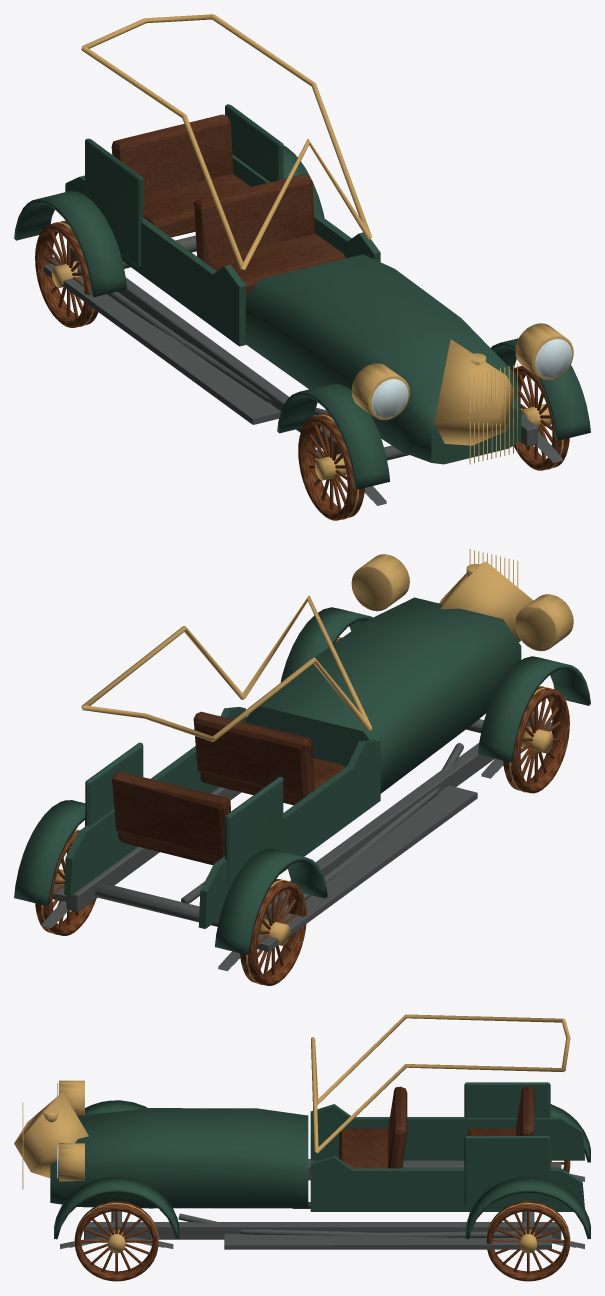
Rendered from Mercedes_37_90_1912_LOD1.fbx.
3 views of the same model, one above another, from view 1: azimuth 30°, elevation 25°; view 2: azimuth 150°, elevation 25°; view 3: azimuth 270°, elevation 25° (orthographic). The views are drawn at different scales.
Parts seen in each view (by area): view 1: Mercedes_37_90_1912_Body_Root_OPT_Merged_MERCEDES_Paint_Deep, Mercedes_37_90_1912_Body_Root_OPT_Merged_RB_Leather_Saddle_O, Mercedes_37_90_1912_Body_Root_OPT_Merged_RB_Brass_Aged_OPT_D, Mercedes_37_90_1912_Body_Root_OPT_Merged_RB_Steel_Blackened_, Mercedes_37_90_1912_Chassis_Root_OPT_Merged_RB_Steel_Blacken, Mercedes_37_90_1912_Wheel_FL_Spin_OPT_Merged_RB_Wood_Walnut_, Mercedes_37_90_1912_Wheel_RL_Spin_OPT_Merged_RB_Wood_Walnut_, Mercedes_37_90_1912_Body_Root_OPT_Merged_RB_Acetylene_Glass_, Mercedes_37_90_1912_Wheel_FR_Spin_OPT_Merged_RB_Wood_Walnut_, Mercedes_37_90_1912_Wheel_FL_Spin_OPT_Merged_RB_Brass_Aged_O; view 2: Mercedes_37_90_1912_Body_Root_OPT_Merged_MERCEDES_Paint_Deep, Mercedes_37_90_1912_Body_Root_OPT_Merged_RB_Leather_Saddle_O, Mercedes_37_90_1912_Body_Root_OPT_Merged_RB_Brass_Aged_OPT_D, Mercedes_37_90_1912_Chassis_Root_OPT_Merged_RB_Steel_Blacken, Mercedes_37_90_1912_Body_Root_OPT_Merged_RB_Steel_Blackened_, Mercedes_37_90_1912_Wheel_FL_Spin_OPT_Merged_RB_Wood_Walnut_, Mercedes_37_90_1912_Wheel_RL_Spin_OPT_Merged_RB_Wood_Walnut_, Mercedes_37_90_1912_Wheel_RR_Spin_OPT_Merged_RB_Wood_Walnut_, Mercedes_37_90_1912_Wheel_FL_Spin_OPT_Merged_RB_Brass_Aged_O; view 3: Mercedes_37_90_1912_Body_Root_OPT_Merged_MERCEDES_Paint_Deep, Mercedes_37_90_1912_Body_Root_OPT_Merged_RB_Brass_Aged_OPT_D, Mercedes_37_90_1912_Chassis_Root_OPT_Merged_RB_Steel_Blacken, Mercedes_37_90_1912_Body_Root_OPT_Merged_RB_Steel_Blackened_, Mercedes_37_90_1912_Body_Root_OPT_Merged_RB_Leather_Saddle_O, Mercedes_37_90_1912_Wheel_FR_Spin_OPT_Merged_RB_Wood_Walnut_, Mercedes_37_90_1912_Wheel_RR_Spin_OPT_Merged_RB_Wood_Walnut_, Mercedes_37_90_1912_Wheel_FR_Spin_OPT_Merged_RB_Brass_Aged_O, Mercedes_37_90_1912_Wheel_RR_Spin_OPT_Merged_RB_Brass_Aged_O.
Part boxes in pixels (x1,y1,x2,y2): Mercedes_37_90_1912_Body_Root_OPT_Merged_MERCEDES_Paint_Deep: [14, 104, 590, 489]; Mercedes_37_90_1912_Body_Root_OPT_Merged_RB_Leather_Saddle_O: [111, 114, 345, 296]; Mercedes_37_90_1912_Body_Root_OPT_Merged_RB_Brass_Aged_OPT_D: [81, 14, 573, 464]; Mercedes_37_90_1912_Body_Root_OPT_Merged_RB_Steel_Blackened_: [43, 259, 328, 424]; Mercedes_37_90_1912_Chassis_Root_OPT_Merged_RB_Steel_Blacken: [52, 235, 562, 505]; Mercedes_37_90_1912_Wheel_FL_Spin_OPT_Merged_RB_Wood_Walnut_: [298, 413, 364, 520]; Mercedes_37_90_1912_Wheel_RL_Spin_OPT_Merged_RB_Wood_Walnut_: [35, 221, 98, 327]; Mercedes_37_90_1912_Body_Root_OPT_Merged_RB_Acetylene_Glass_: [371, 339, 571, 417]; Mercedes_37_90_1912_Wheel_FR_Spin_OPT_Merged_RB_Wood_Walnut_: [512, 365, 569, 470]; Mercedes_37_90_1912_Wheel_FL_Spin_OPT_Merged_RB_Brass_Aged_O: [314, 414, 358, 519]; Mercedes_37_90_1912_Body_Root_OPT_Merged_MERCEDES_Paint_Deep: [14, 597, 590, 954]; Mercedes_37_90_1912_Body_Root_OPT_Merged_RB_Leather_Saddle_O: [112, 711, 345, 865]; Mercedes_37_90_1912_Body_Root_OPT_Merged_RB_Brass_Aged_OPT_D: [81, 549, 573, 741]; Mercedes_37_90_1912_Chassis_Root_OPT_Merged_RB_Steel_Blacken: [42, 710, 552, 971]; Mercedes_37_90_1912_Body_Root_OPT_Merged_RB_Steel_Blackened_: [52, 743, 477, 951]; Mercedes_37_90_1912_Wheel_FL_Spin_OPT_Merged_RB_Wood_Walnut_: [503, 686, 569, 793]; Mercedes_37_90_1912_Wheel_RL_Spin_OPT_Merged_RB_Wood_Walnut_: [240, 879, 306, 985]; Mercedes_37_90_1912_Wheel_RR_Spin_OPT_Merged_RB_Wood_Walnut_: [35, 829, 96, 935]; Mercedes_37_90_1912_Wheel_FL_Spin_OPT_Merged_RB_Brass_Aged_O: [509, 687, 553, 792]; Mercedes_37_90_1912_Body_Root_OPT_Merged_MERCEDES_Paint_Deep: [50, 1082, 590, 1239]; Mercedes_37_90_1912_Body_Root_OPT_Merged_RB_Brass_Aged_OPT_D: [14, 1014, 570, 1189]; Mercedes_37_90_1912_Chassis_Root_OPT_Merged_RB_Steel_Blacken: [60, 1162, 584, 1248]; Mercedes_37_90_1912_Body_Root_OPT_Merged_RB_Steel_Blackened_: [178, 1159, 551, 1249]; Mercedes_37_90_1912_Body_Root_OPT_Merged_RB_Leather_Saddle_O: [339, 1086, 534, 1168]; Mercedes_37_90_1912_Wheel_FR_Spin_OPT_Merged_RB_Wood_Walnut_: [75, 1201, 158, 1281]; Mercedes_37_90_1912_Wheel_RR_Spin_OPT_Merged_RB_Wood_Walnut_: [486, 1201, 569, 1281]; Mercedes_37_90_1912_Wheel_FR_Spin_OPT_Merged_RB_Brass_Aged_O: [74, 1203, 158, 1253]; Mercedes_37_90_1912_Wheel_RR_Spin_OPT_Merged_RB_Brass_Aged_O: [486, 1203, 570, 1253].
Size of what is drawn, in the model's own units: 177 by 189 by 484.
6 materials, 2 textured.
